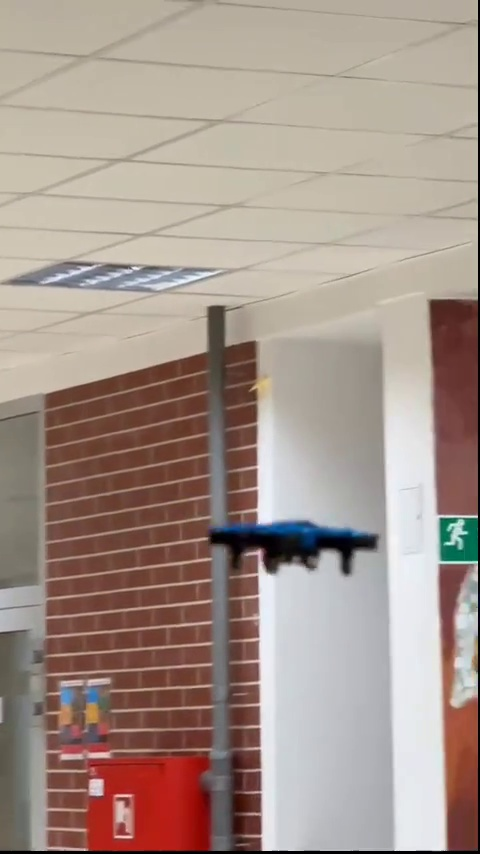drone: (211, 517, 380, 577)
